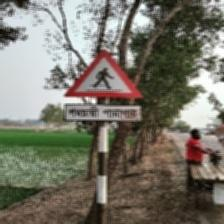Pedestrian-crossing: (62, 49, 144, 124)
